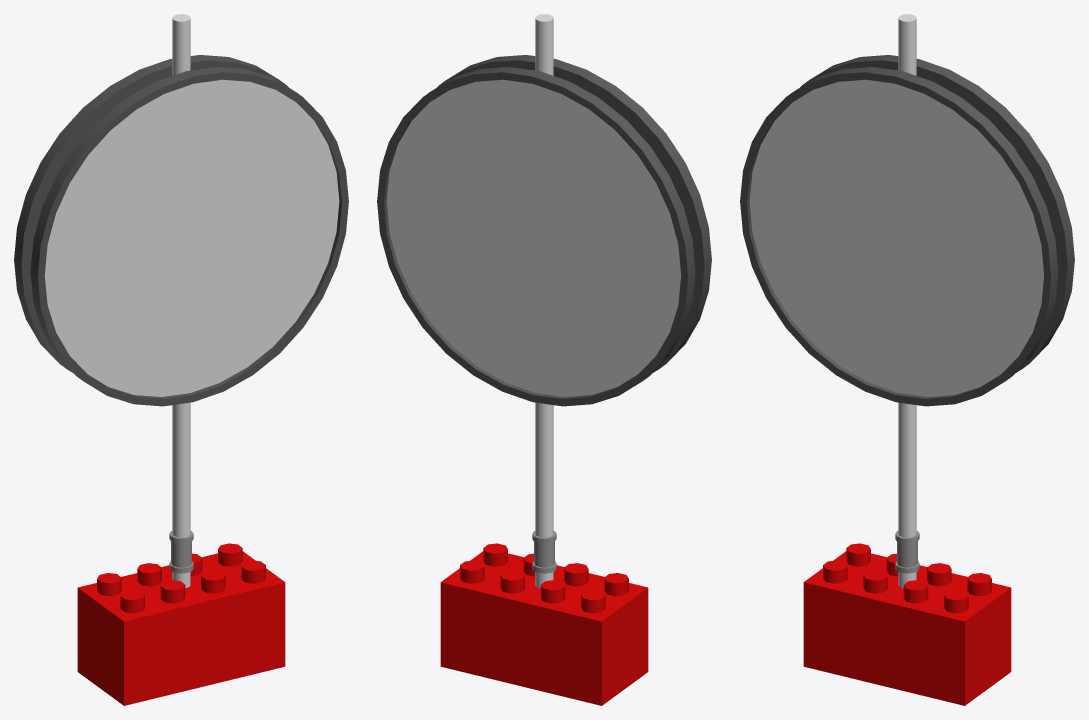
The model's file is OpcaoEResposta.fbx.
3 views of the same model, side by side, from view 1: azimuth 30°, elevation 25°; view 2: azimuth 150°, elevation 25°; view 3: azimuth 330°, elevation 25° (orthographic).
Visible parts, largest first — view 1: OpcaoEResposta, Lego; view 2: OpcaoEResposta, Lego; view 3: OpcaoEResposta, Lego.
Part boxes in pixels (x1,y1,x2,y2): OpcaoEResposta: (14, 14, 348, 588); Lego: (77, 543, 285, 705); OpcaoEResposta: (377, 14, 711, 588); Lego: (440, 543, 648, 705); OpcaoEResposta: (740, 14, 1074, 588); Lego: (803, 543, 1011, 705).
Bounding box in the file's own units: 772 × 1544 × 200.
